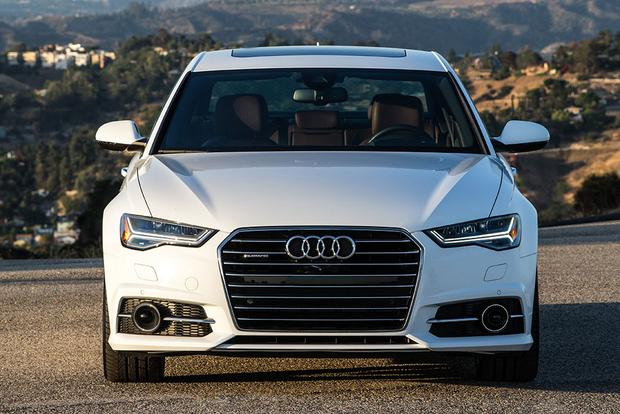audi: (279, 233, 359, 266)
